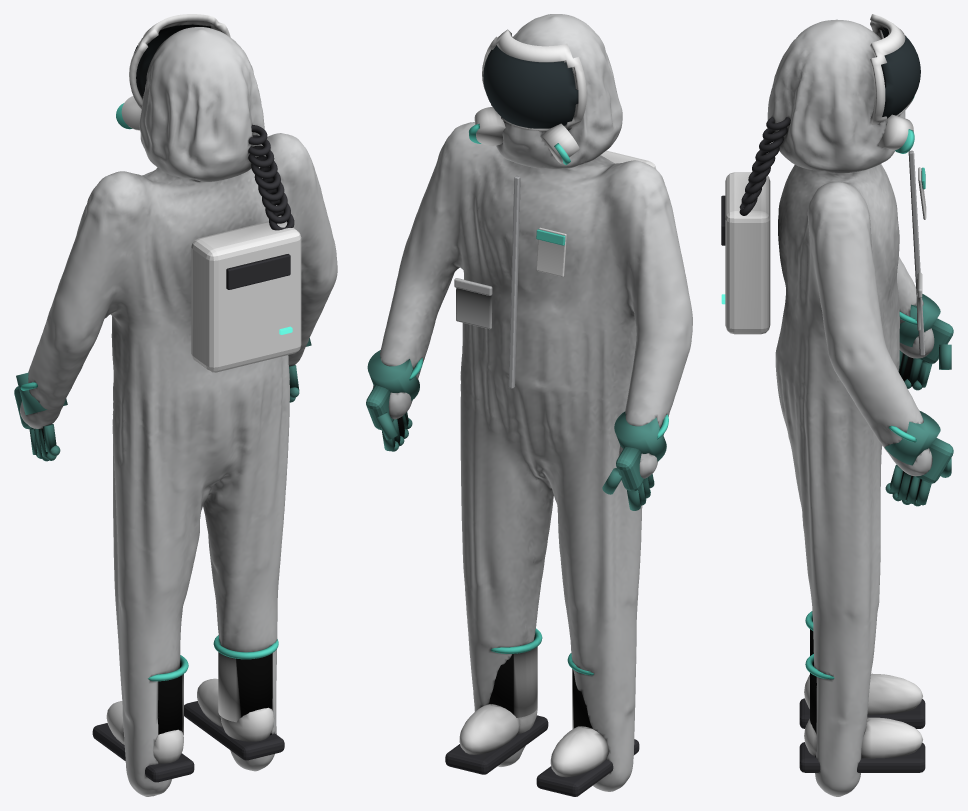
Rendered from staff-assayer.glb.
3 renders of one model, left to right at view 1: azimuth 30°, elevation 25°; view 2: azimuth 150°, elevation 25°; view 3: azimuth 270°, elevation 25°, orthographic.
Visible parts, largest first — view 1: Staff; view 2: Staff; view 3: Staff.
Boxes of the visible parts, bbox=[...] form: Staff: bbox=[14, 14, 337, 796]; Staff: bbox=[366, 14, 692, 796]; Staff: bbox=[721, 14, 953, 796].
Size of the model in its own units: 0.7341 by 1.83 by 0.5166.
